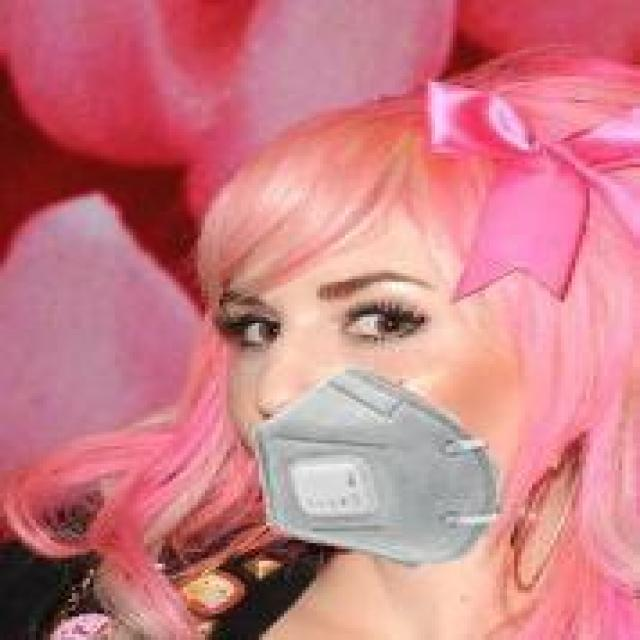mask: (194, 73, 640, 602)
